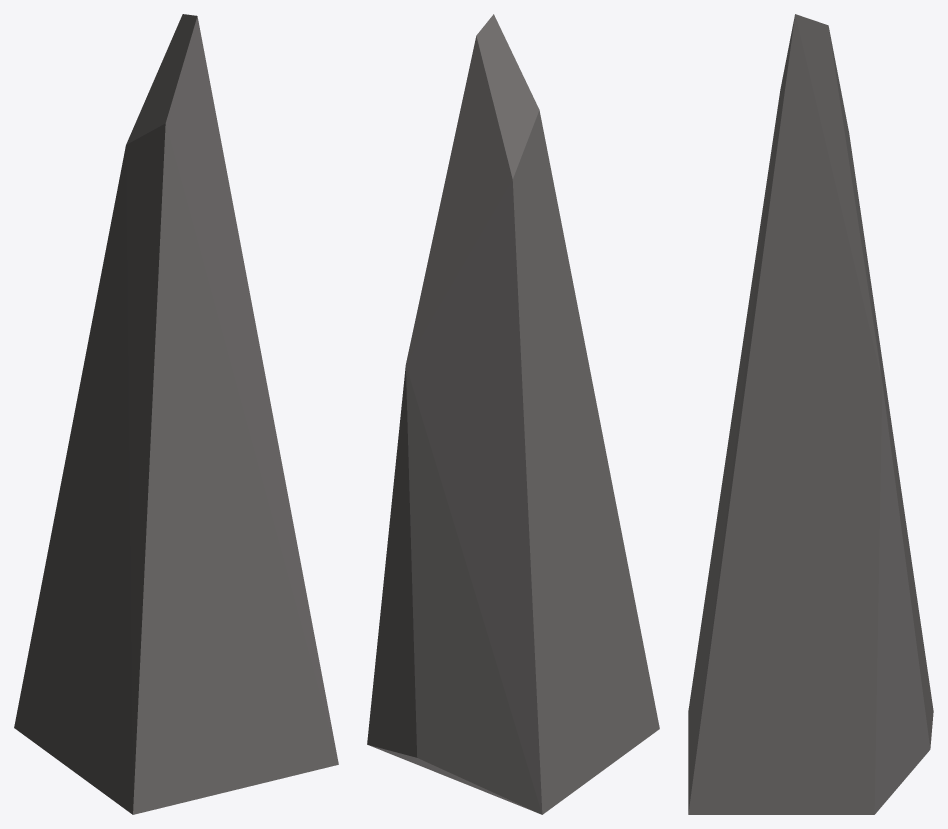
Rendered from Rock_Sharp_s_01.fbx.
3 views of the same model, side by side, from view 1: azimuth 30°, elevation 25°; view 2: azimuth 150°, elevation 25°; view 3: azimuth 270°, elevation 25° (orthographic). The views are drawn at different scales.
Parts seen in each view (by area): view 1: Rock_Sharp_s_01; view 2: Rock_Sharp_s_01; view 3: Rock_Sharp_s_01.
Part boxes in pixels (x1,y1,x2,y2): Rock_Sharp_s_01: (14,14,338,814); Rock_Sharp_s_01: (367,14,659,814); Rock_Sharp_s_01: (688,14,933,814).
Bounding box in the file's own units: 0.2439 × 0.8294 × 0.2439.
